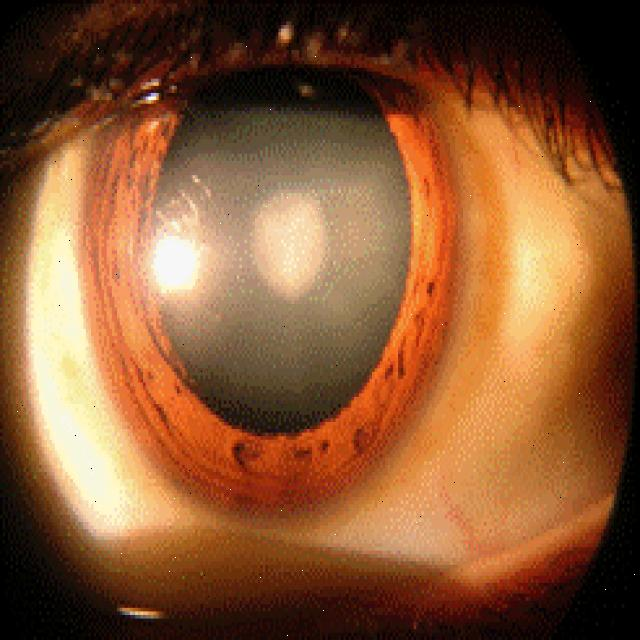Cataract: (86, 6, 455, 491)
